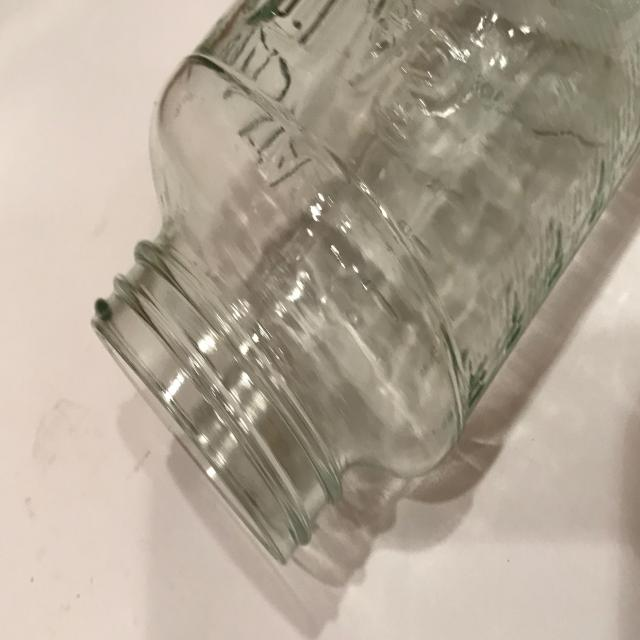glass: (88, 0, 640, 568)
